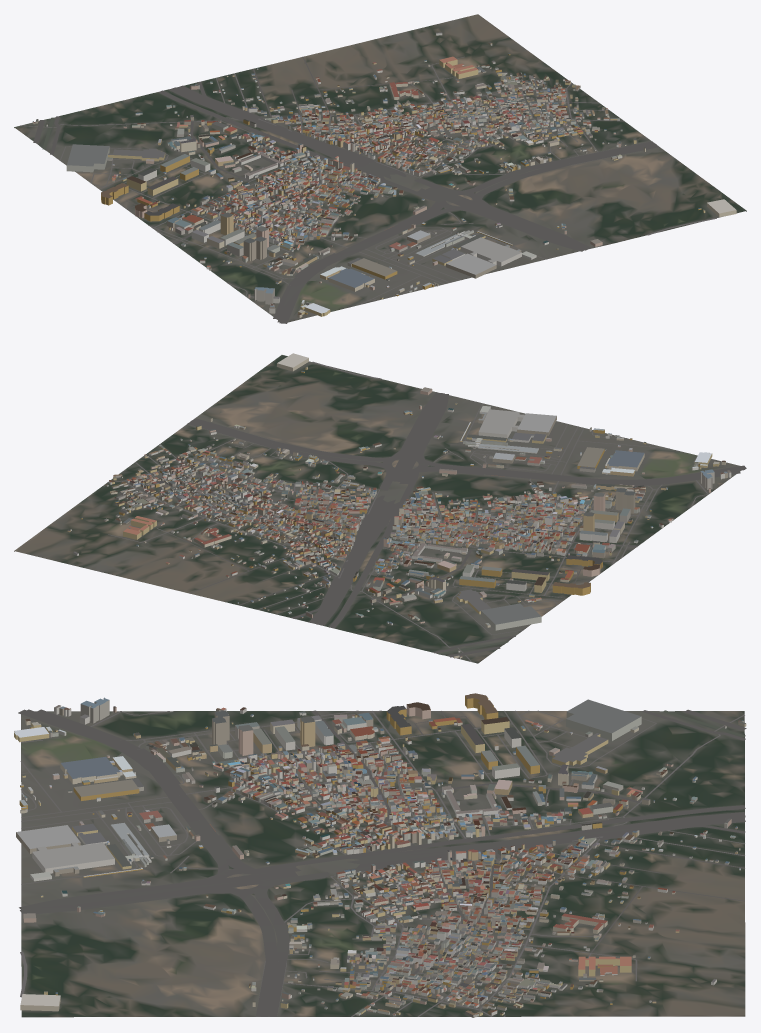
3 views of the same model, one above another, from view 1: azimuth 30°, elevation 25°; view 2: azimuth 150°, elevation 25°; view 3: azimuth 270°, elevation 25° (orthographic). The views are drawn at different scales.
Visible parts, largest first — view 1: ground, buildings, roads; view 2: ground, buildings, roads; view 3: ground, buildings, roads.
Part boxes in pixels (left/top/right/bottom): ground: left=14, top=14, right=746, bottom=322; buildings: left=32, top=32, right=736, bottom=317; roads: left=20, top=56, right=716, bottom=323; ground: left=14, top=355, right=740, bottom=663; buildings: left=67, top=353, right=731, bottom=658; roads: left=103, top=361, right=746, bottom=661; ground: left=21, top=711, right=745, bottom=1017; buildings: left=14, top=693, right=746, bottom=1017; roads: left=18, top=709, right=746, bottom=1016.
Bounding box in the file's own units: 1441 × 57.8 × 1420.
